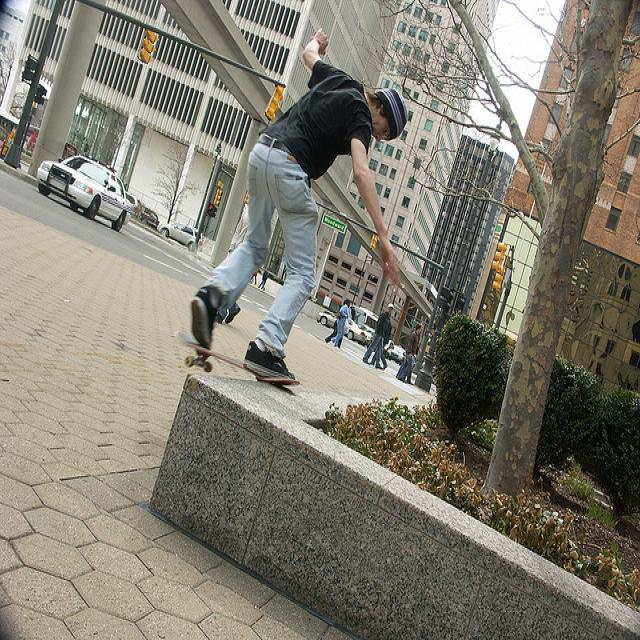Vehicle: (38, 152, 134, 231), (158, 222, 202, 251), (348, 304, 379, 334), (345, 315, 374, 346), (132, 198, 160, 229), (315, 311, 348, 335), (388, 344, 407, 363), (126, 192, 138, 211)
